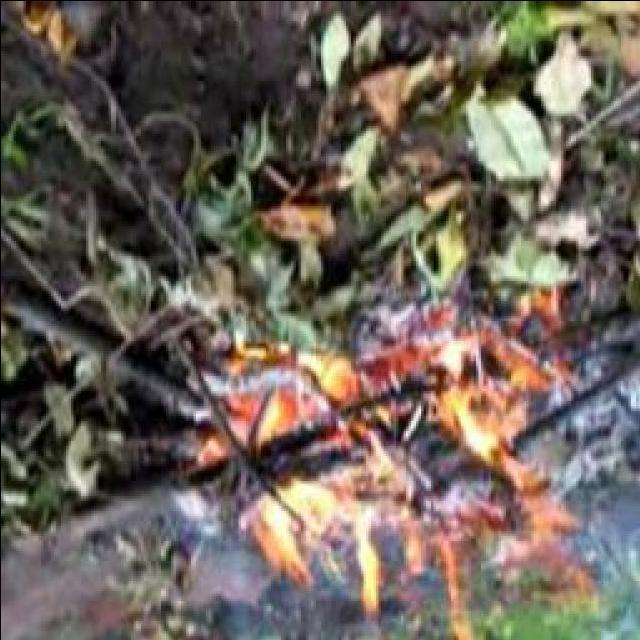Fire: (212, 330, 578, 630)
